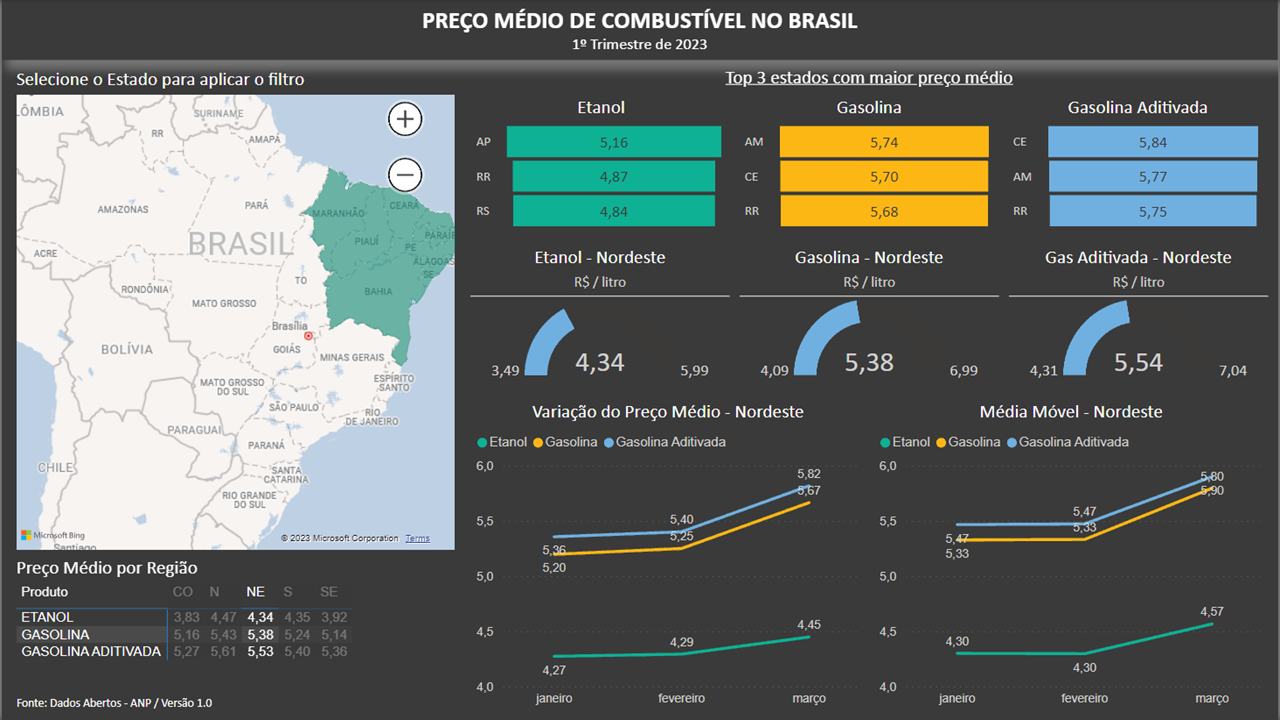

The dashboard page shown, as its layout file describes it:
{"tool":"powerbi","page":{"name":"Preço Médio","canvas":[1280,720],"ordinal":0},"visuals":[{"type":"lineChart","fields":{"Category":["preco_tratado.Data_Coleta.Variation.Hierarquia de datas.Mês","preco_tratado.Data_Coleta.Variation.Hierarquia de datas.Dia"],"Y":["Medidas.MediaNacEtanol","Medidas.MediaNacGasComum","Medidas.MediaNacGasAdit"]},"box":[470.9,395,395,320],"z":0},{"type":"lineChart","fields":{"Y":["Medidas.Média móvel de MediaNacEtanol","Medidas.Média móvel de MediaNacGasComum","Medidas.Média móvel de MediaNacGasAdit"],"Category":["preco_tratado.Data_Coleta.Variation.Hierarquia de datas.Mês","preco_tratado.Data_Coleta.Variation.Hierarquia de datas.Dia"]},"box":[874.9,395,395.1,320],"z":1000},{"type":"filledMap","title":"Selecione o Estado para aplicar o filtro","fields":{"Category":["preco_tratado.Estado"]},"box":[10,65,450,490],"z":2000},{"type":"pivotTable","fields":{"Rows":["preco_tratado.Produto"],"Columns":["preco_tratado.Regiao"],"Values":["Medidas.MediaValorVenda"]},"box":[10,554.7,450,123.7],"z":3000},{"type":"funnel","title":"Gasolina ","fields":{"Category":["TOPMediaGas.Estado"],"Y":["Avg(TOPMediaGas.GAS)"]},"box":[740.2,95,260,140.1],"z":4000},{"type":"textbox","box":[0,0,1280,60],"z":5000},{"type":"funnel","title":"Gasolina Aditivada","fields":{"Category":["TOPMediaGasAdit.Estado"],"Y":["Avg(TOPMediaGasAdit.GAS_ADIT)"]},"box":[1009.6,95,260.7,140.1],"z":6000},{"type":"funnel","title":"Etanol","fields":{"Category":["TOPMediaEtanol.Estado"],"Y":["Avg(TOPMediaEtanol.ETANOL)"]},"box":[470.8,95,260.7,140.1],"z":7000},{"type":"textbox","title":"Top 3 estados com maior preço médio","box":[470.2,65,800.1,30],"z":8000},{"type":"textbox","box":[10,690,225.5,25.9],"z":9000},{"type":"textbox","box":[470,245.1,260,52],"z":10000},{"type":"gauge","fields":{"Y":["Medidas.MediaNacEtanol"],"MinValue":["Medidas.MinMediaNacEtanol"],"MaxValue":["Medidas.MaxMediaNacEtanol"]},"box":[470,297.6,259.7,87.5],"z":11000},{"type":"textbox","box":[740,245,260,52],"z":12000},{"type":"gauge","fields":{"Y":["Medidas.MediaNacGasComum"],"MinValue":["Medidas.MinMediaNacGas"],"MaxValue":["Medidas.MaxMediaNacGas"]},"box":[740,297,259.7,87.5],"z":13000},{"type":"textbox","box":[1010.7,245,260,52],"z":14000},{"type":"gauge","fields":{"Y":["Medidas.MediaNacGasAdit"],"MinValue":["Medidas.MinMediaNacGasAdt"],"MaxValue":["Medidas.MaxMediaNacGasAdt"]},"box":[1010.7,297,259.7,87.5],"z":15000}]}

Visuals, with their boxes in screenshot pixels (x1, y1, x2, y2), scaled from the page's 1280x720 canvas onto the 1280x720 screenshot:
lineChart - preco_tratado.Data_Coleta.Variation.Hierarquia de datas.Mês x preco_tratado.Data_Coleta.Variation.Hierarquia de datas.Dia: crop(471, 395, 866, 715)
lineChart - Medidas.Média móvel de MediaNacEtanol x Medidas.Média móvel de MediaNacGasComum: crop(875, 395, 1270, 715)
"Selecione o Estado para aplicar o filtro" filledMap: crop(10, 65, 460, 555)
pivotTable - preco_tratado.Produto x preco_tratado.Regiao: crop(10, 555, 460, 678)
"Gasolina " funnel: crop(740, 95, 1000, 235)
textbox: crop(0, 0, 1279, 60)
"Gasolina Aditivada" funnel: crop(1010, 95, 1270, 235)
"Etanol" funnel: crop(471, 95, 732, 235)
"Top 3 estados com maior preço médio" textbox: crop(470, 65, 1270, 95)
textbox: crop(10, 690, 236, 716)
textbox: crop(470, 245, 730, 297)
gauge - Medidas.MediaNacEtanol x Medidas.MinMediaNacEtanol: crop(470, 298, 730, 385)
textbox: crop(740, 245, 1000, 297)
gauge - Medidas.MediaNacGasComum x Medidas.MinMediaNacGas: crop(740, 297, 1000, 384)
textbox: crop(1011, 245, 1271, 297)
gauge - Medidas.MediaNacGasAdit x Medidas.MinMediaNacGasAdt: crop(1011, 297, 1270, 384)
